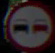No overtake: (3, 3, 51, 42)
